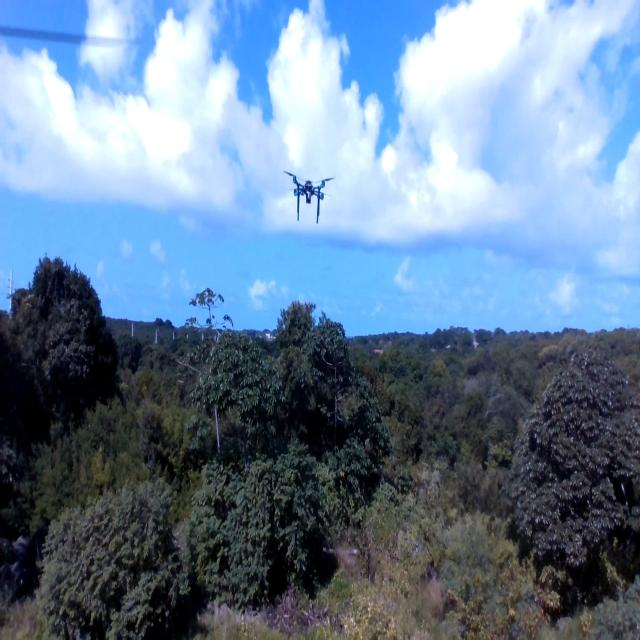-uav-: (275, 157, 337, 240)
